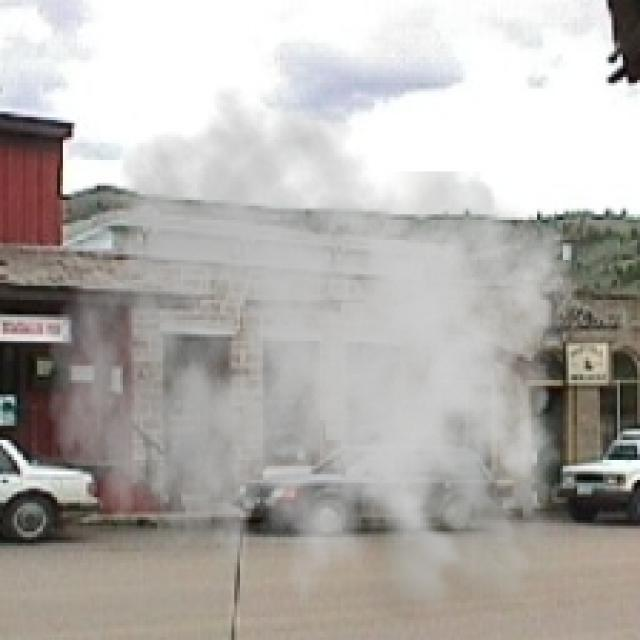Smoke: (45, 85, 598, 638)
